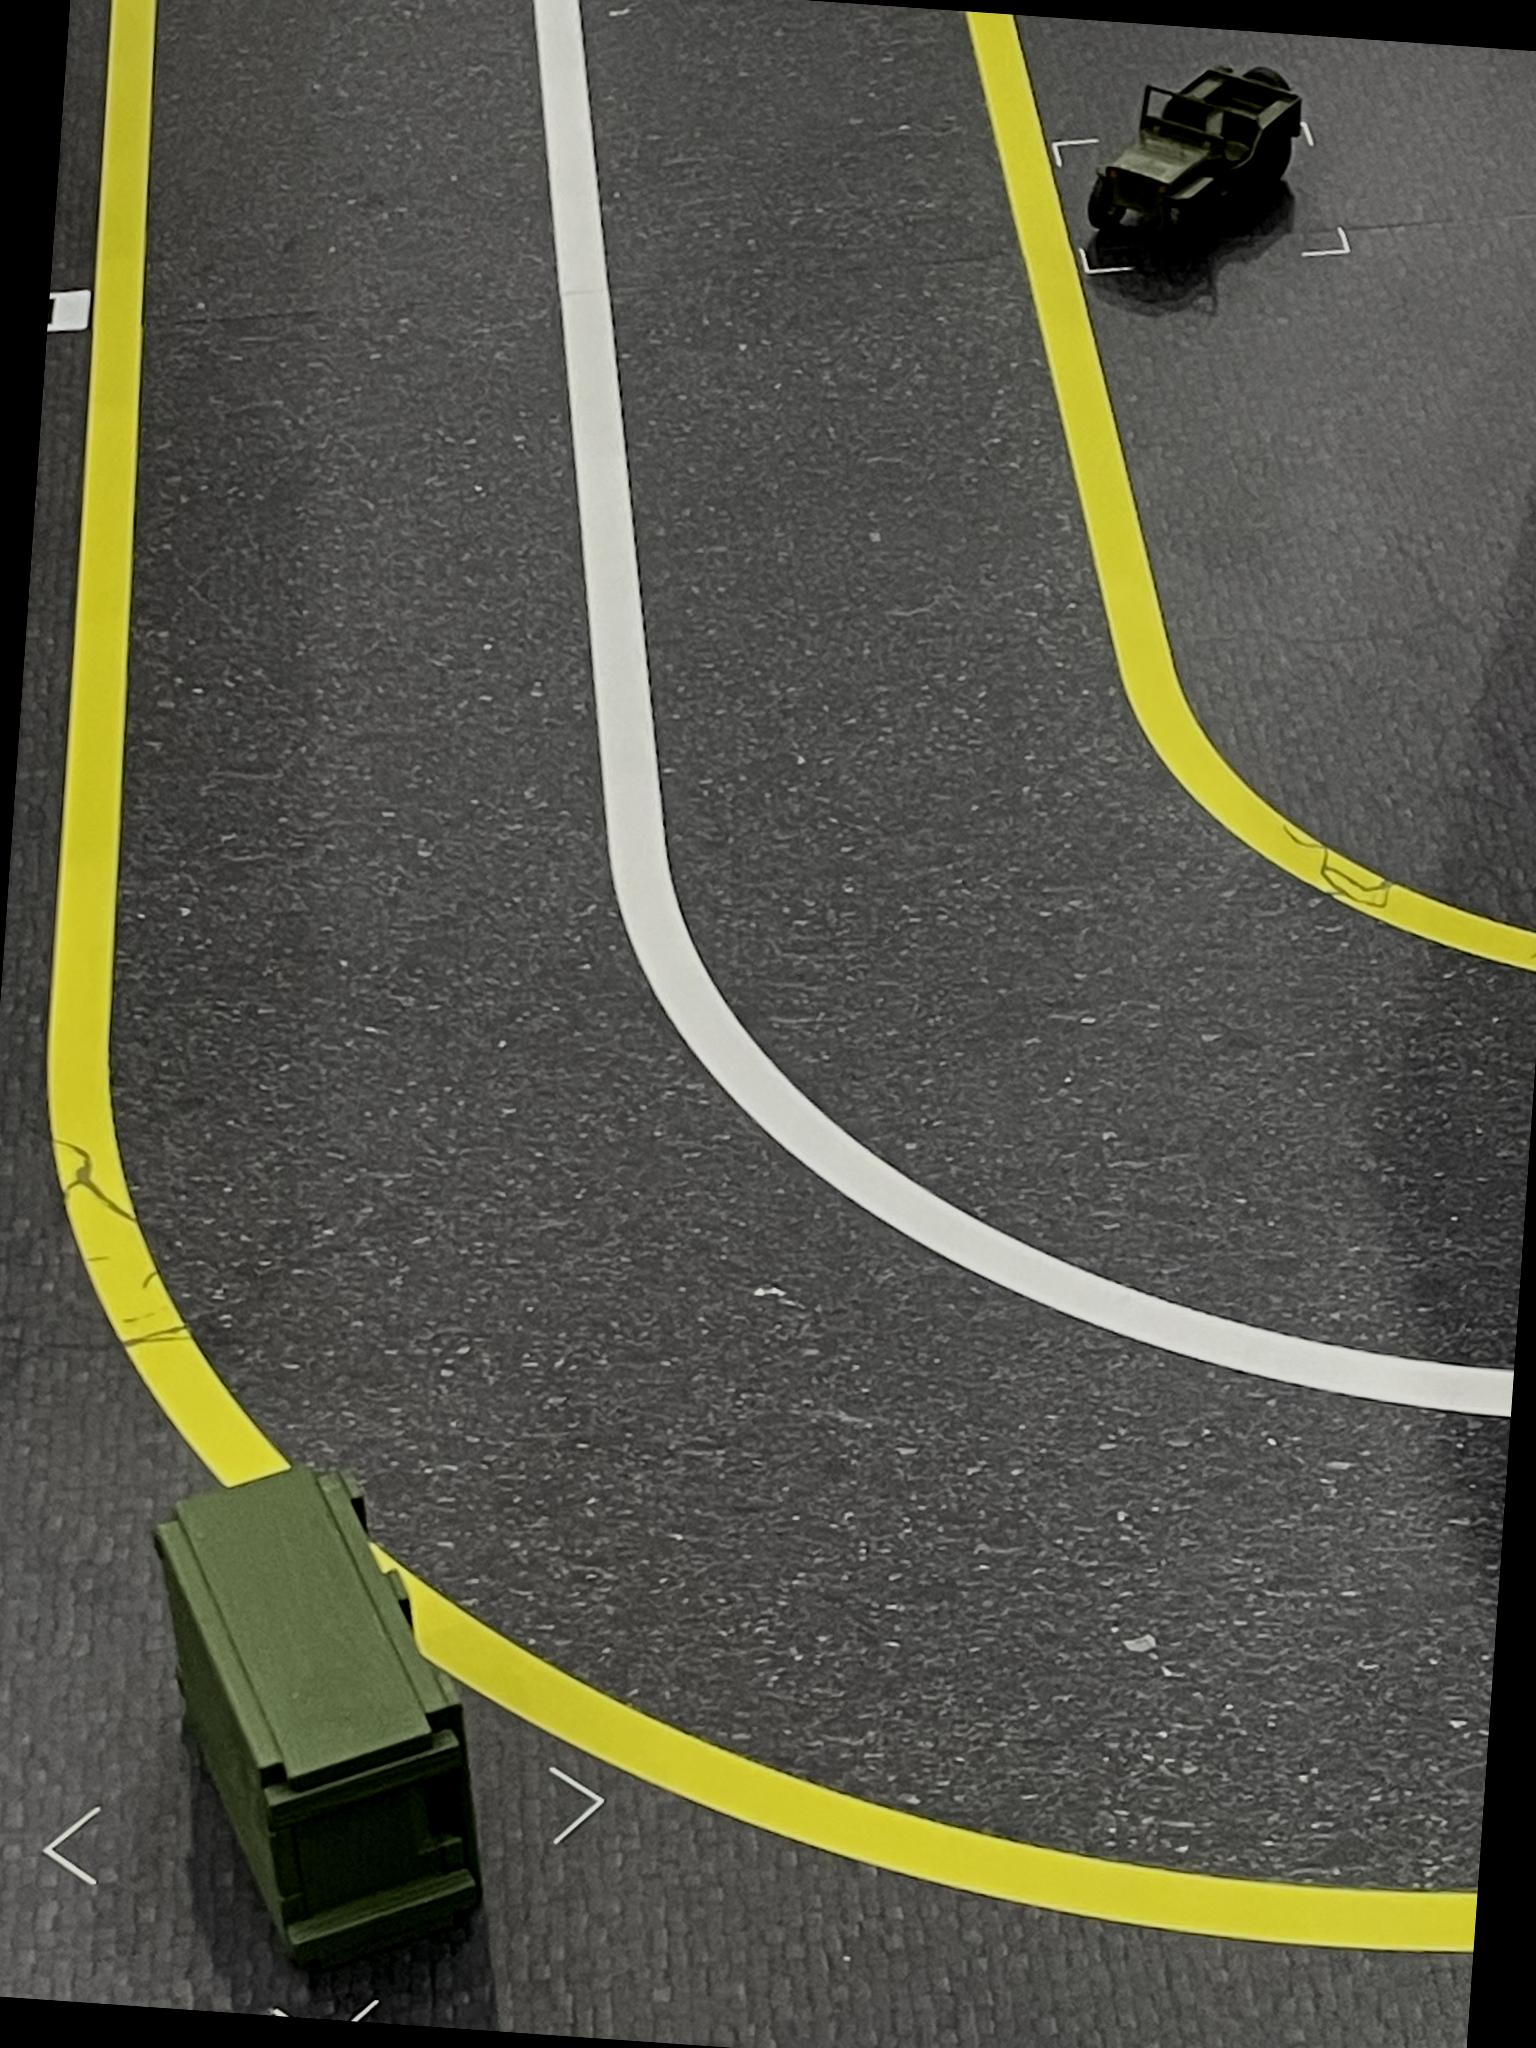Box: (100, 1443, 516, 1992)
Car: (1076, 19, 1315, 266)
